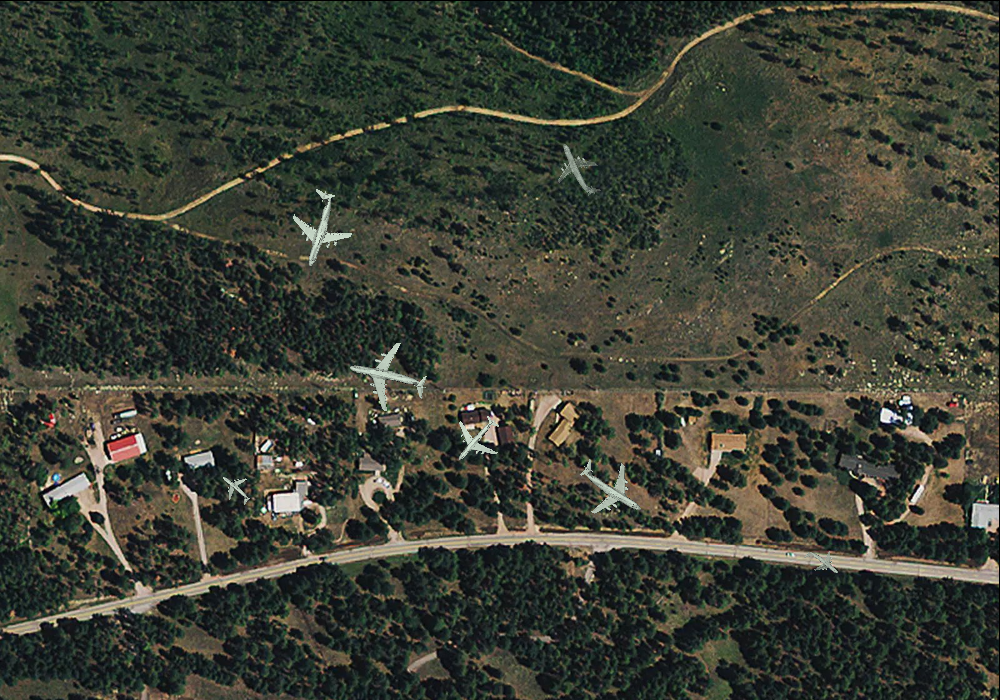plane: (563, 441, 659, 535), (272, 180, 364, 276), (341, 332, 434, 422), (440, 403, 513, 476), (543, 131, 614, 206), (798, 539, 847, 587), (211, 465, 259, 513)
